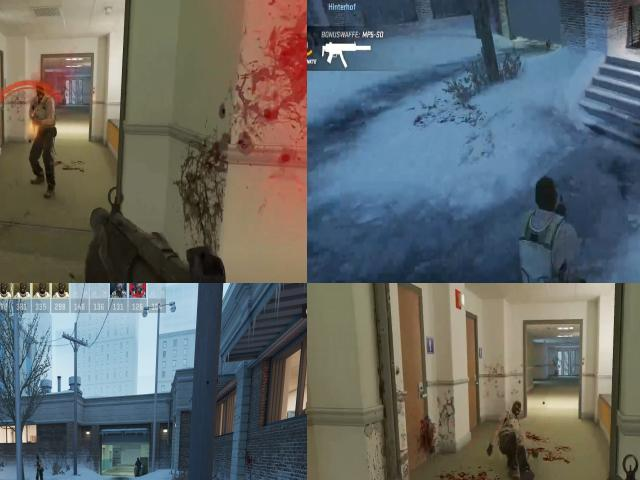CT: (136, 456, 142, 477)
CT-Head: (136, 457, 140, 462)
Dead: (488, 390, 538, 480)
T: (517, 205, 588, 283), (27, 83, 58, 144), (35, 455, 43, 480)
T-Head: (531, 176, 559, 215), (36, 76, 48, 102), (36, 456, 41, 462)
